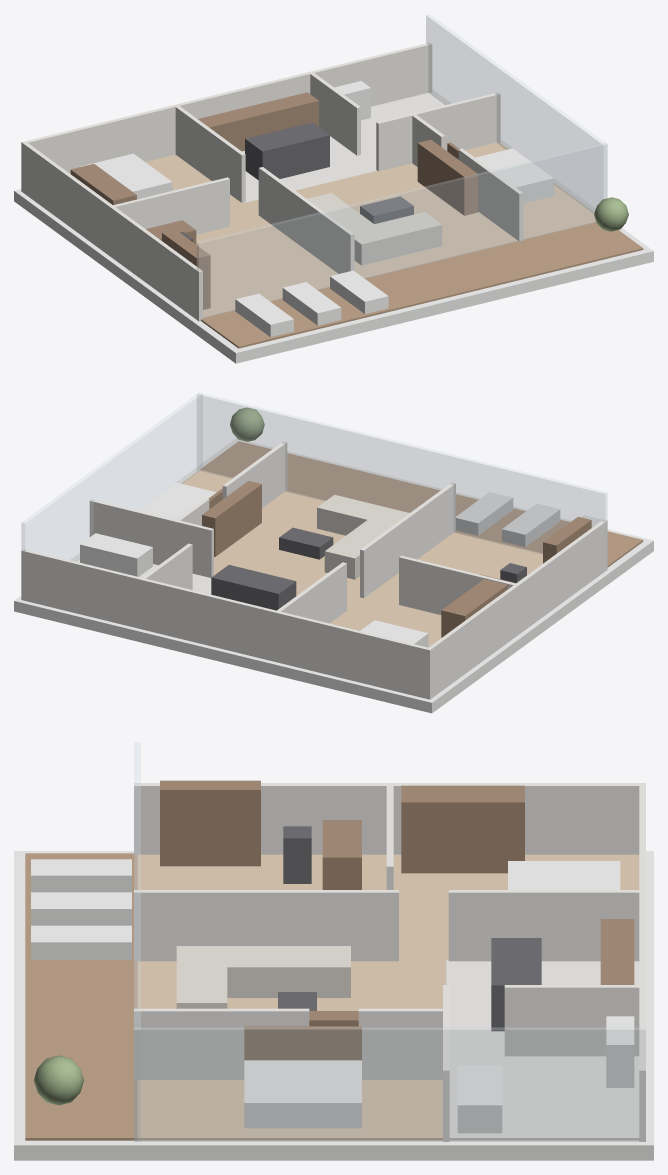
Rendered from sample-apartment.glb.
3 views of the same model, one above another, from view 1: azimuth 30°, elevation 25°; view 2: azimuth 150°, elevation 25°; view 3: azimuth 270°, elevation 25° (orthographic). The views are drawn at different scales.
Parts seen in each view (by area): view 1: object 18, floor_balcony, object 17, object 15, base, object 16, room_living, floor_study, floor_living, room_kitchen, room_balcony, object 23 (+14 smaller); view 2: object 18, object 15, object 17, base, object 16, floor_balcony, room_living, floor_living, object 20, object 23, room_balcony, floor_study (+12 smaller); view 3: object 17, floor_balcony, base, object 16, object 20, room_bed2, room_study, floor_master, floor_bath, room_master, room_balcony, object 19 (+14 smaller).
Boxes of the visible parts, x1,y1,x2,y2 form: object 18: (197, 143, 607, 318); floor_balcony: (201, 222, 643, 348); object 17: (426, 14, 606, 212); object 15: (21, 42, 432, 191); base: (14, 89, 653, 363); object 16: (21, 142, 202, 321); room_living: (307, 139, 477, 265); floor_study: (196, 218, 338, 317); floor_living: (245, 163, 517, 278); room_kitchen: (198, 92, 329, 179); room_balcony: (235, 197, 628, 337); object 23: (376, 92, 500, 171); object 18: (197, 393, 607, 570); object 15: (21, 549, 432, 699); object 17: (21, 393, 202, 600); base: (14, 438, 653, 713); object 16: (426, 519, 607, 699); floor_balcony: (200, 441, 643, 567); room_living: (202, 481, 409, 579); floor_living: (214, 491, 361, 608); object 20: (360, 482, 455, 598); object 23: (89, 499, 213, 577); room_balcony: (230, 407, 602, 547); floor_study: (367, 532, 542, 603); object 17: (134, 1027, 645, 1141); floor_balcony: (25, 853, 137, 1140); base: (14, 851, 653, 1160); object 16: (134, 783, 644, 854); object 20: (134, 890, 398, 961); room_bed2: (401, 785, 620, 889); room_study: (160, 780, 361, 889); floor_master: (137, 1080, 442, 1140); floor_bath: (449, 1055, 639, 1140); room_master: (244, 1026, 361, 1128); room_balcony: (31, 859, 131, 1105); object 19: (448, 890, 645, 961).
Size of the model in its own units: 12.4 by 2.5 by 11.4.
